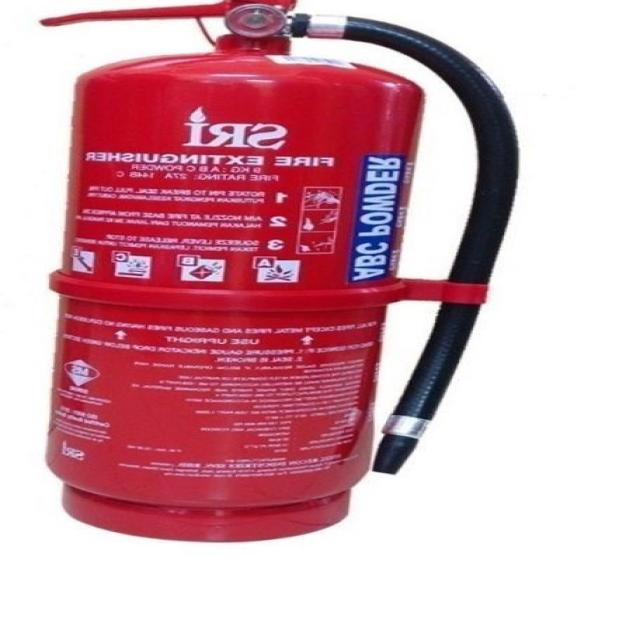fire_extinguisher: (19, 0, 527, 546)
